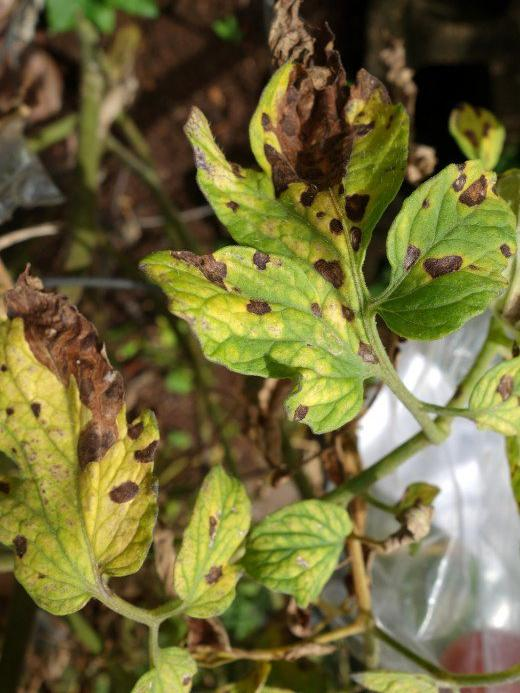Tomato leaf bacterial spot: (1, 246, 157, 639), (139, 243, 390, 430), (371, 158, 512, 343), (166, 470, 254, 620), (245, 501, 356, 608)
